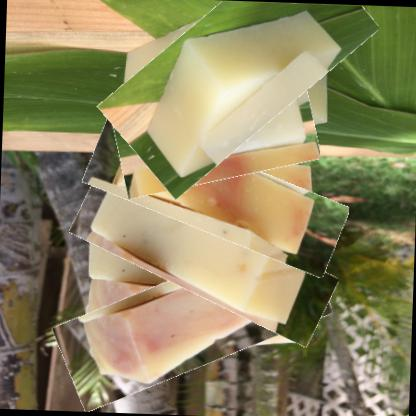soap: (97, 0, 379, 170), (54, 246, 332, 396), (69, 188, 341, 324), (82, 131, 350, 258), (111, 75, 320, 194)
